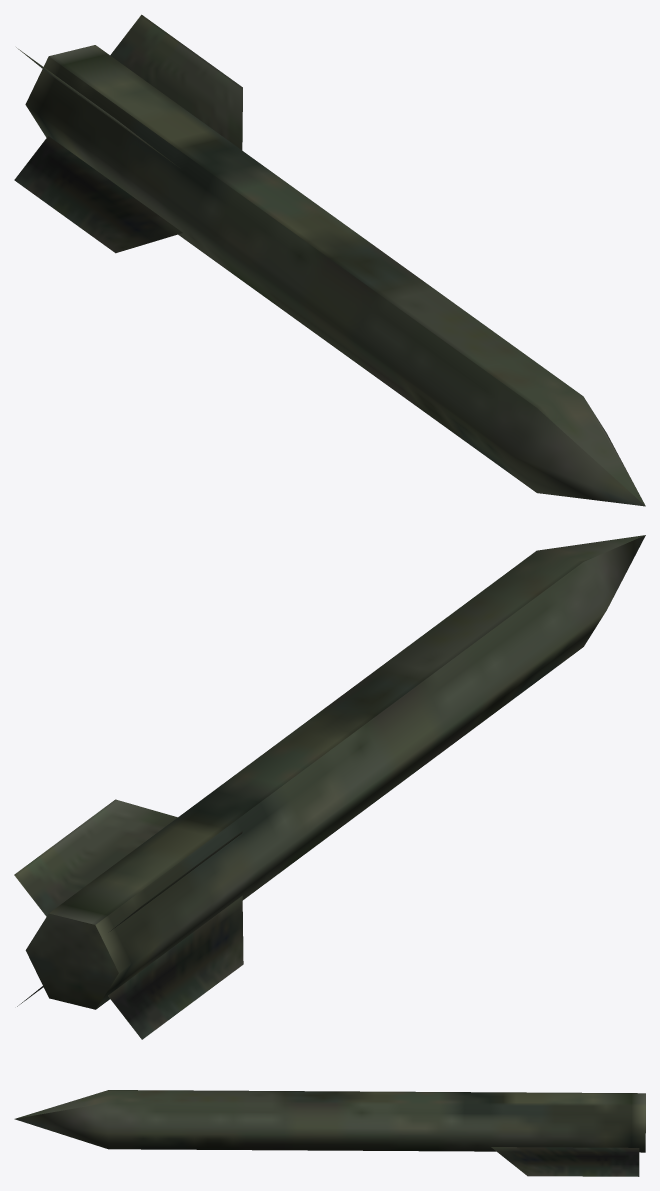
Rendered from rocket.FBX.
3 renders of one model, top to bottom at view 1: azimuth 30°, elevation 25°; view 2: azimuth 150°, elevation 25°; view 3: azimuth 270°, elevation 25°, orthographic. The views are drawn at different scales.
Visible parts, largest first — view 1: rocket; view 2: rocket; view 3: rocket.
Boxes of the visible parts, bbox=[...] form: rocket: bbox=[14, 14, 645, 506]; rocket: bbox=[14, 535, 645, 1039]; rocket: bbox=[14, 1090, 645, 1176].
Size of the model in its own units: 23.66 by 23.97 by 184.
